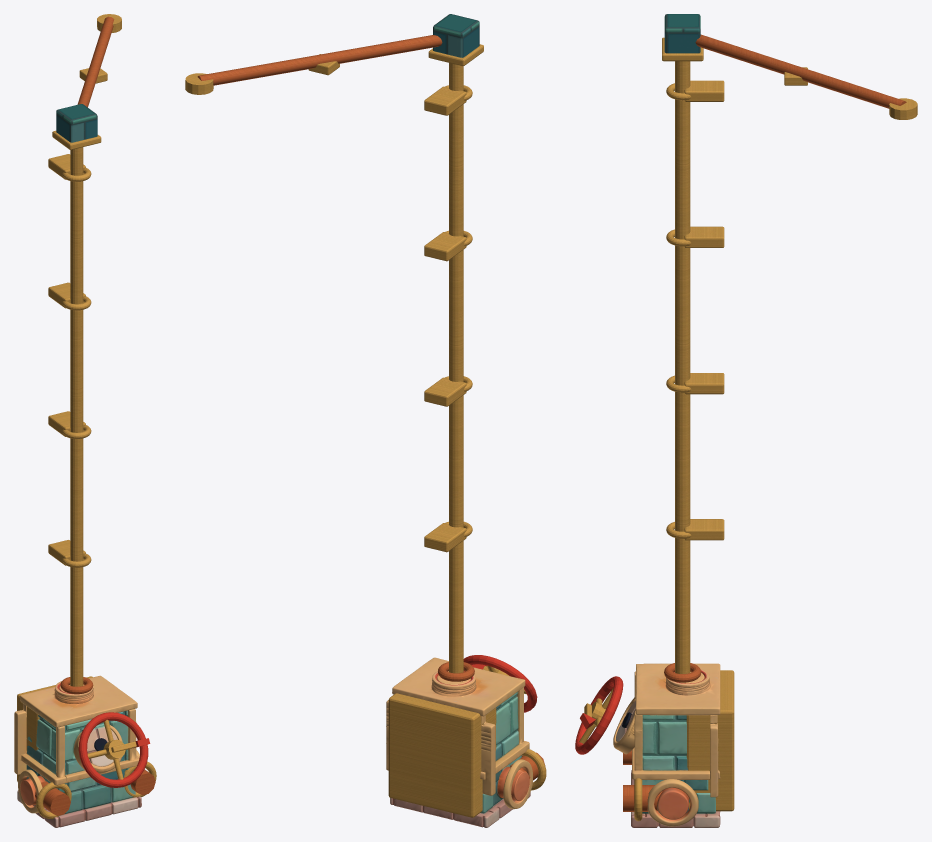
File: act2_horn_dial_L.glb
The picture shows the model from 3 angles, left to right: view 1: azimuth 30°, elevation 25°; view 2: azimuth 150°, elevation 25°; view 3: azimuth 270°, elevation 25°; orthographic projection. The views are drawn at different scales.
Parts seen in each view (by area): view 1: SM_Act2_HornDialL_Transmission_Mesh, RODIN_act2_tower_dial_rodin_Part, ANIM_Dial_Wheel_Mesh; view 2: SM_Act2_HornDialL_Transmission_Mesh, RODIN_act2_tower_dial_rodin_Part, ANIM_Dial_Wheel_Mesh; view 3: SM_Act2_HornDialL_Transmission_Mesh, RODIN_act2_tower_dial_rodin_Part, ANIM_Dial_Wheel_Mesh.
Part boxes in pixels (x1,y1,x2,y2): SM_Act2_HornDialL_Transmission_Mesh: (17,14,156,818); RODIN_act2_tower_dial_rodin_Part: (14,675,141,827); ANIM_Dial_Wheel_Mesh: (78,712,150,787); SM_Act2_HornDialL_Transmission_Mesh: (185,14,546,817); RODIN_act2_tower_dial_rodin_Part: (386,657,532,827); ANIM_Dial_Wheel_Mesh: (463,655,537,712); SM_Act2_HornDialL_Transmission_Mesh: (623,14,917,821); RODIN_act2_tower_dial_rodin_Part: (613,663,720,827); ANIM_Dial_Wheel_Mesh: (575,676,623,754).
Size of the model in its own units: 1.32 by 4.36 by 1.72.
5 materials, 4 textured.
